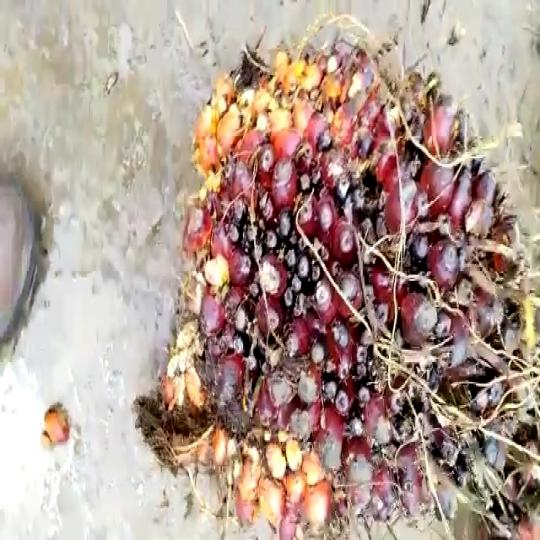kurang masak: (169, 29, 540, 540)
